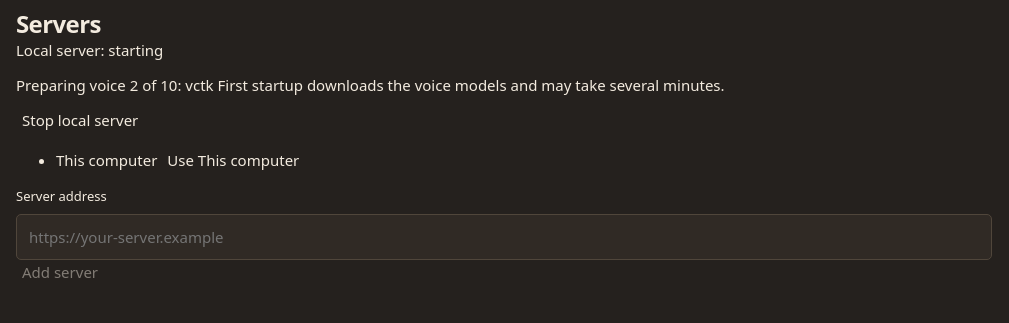
Test: servers page › allows local startup to be stopped while selection is pending
The width and height of the screenshot is (1009, 323).
Step 1. Click the button "Use This computer" → [233, 160], box left=161, top=148, right=305, bottom=172
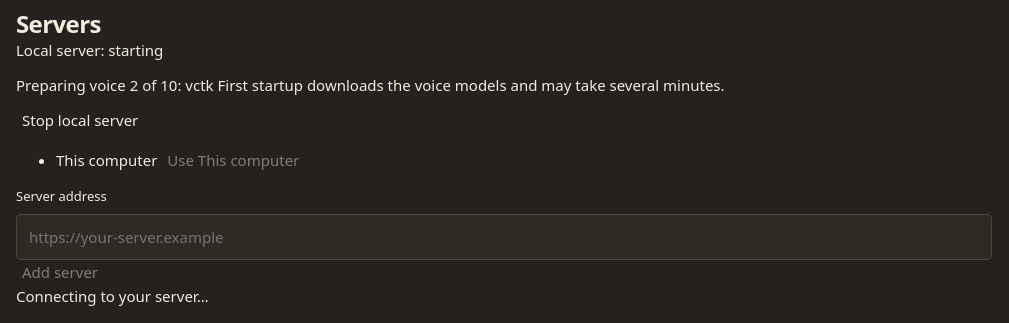
Expected: the text "Preparing voice 2 of 10" is shown, left=16, top=74, right=214, bottom=94
Step 2. Click the button "Stop local server" → [80, 120], box left=16, top=108, right=144, bottom=132
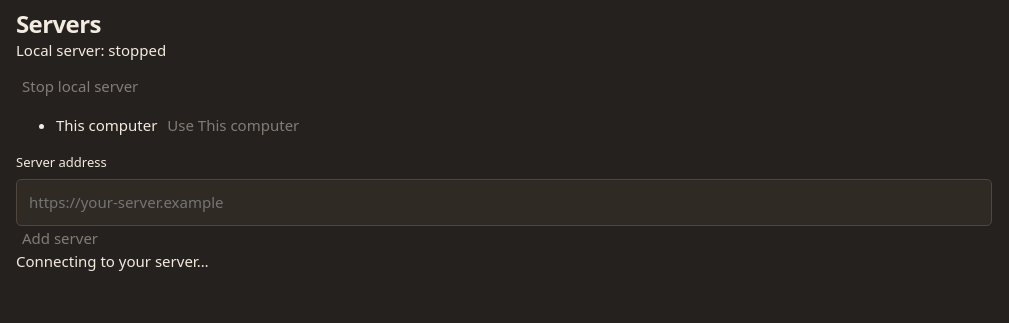
Now the text "Local server: stopped" is shown, box left=16, top=40, right=166, bottom=60
